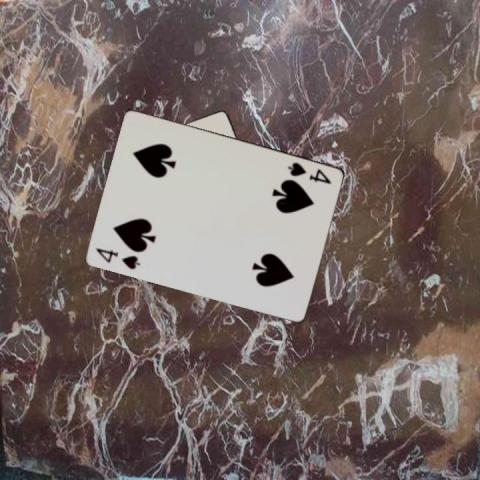4s: (93, 244, 143, 270), (285, 159, 333, 185)
